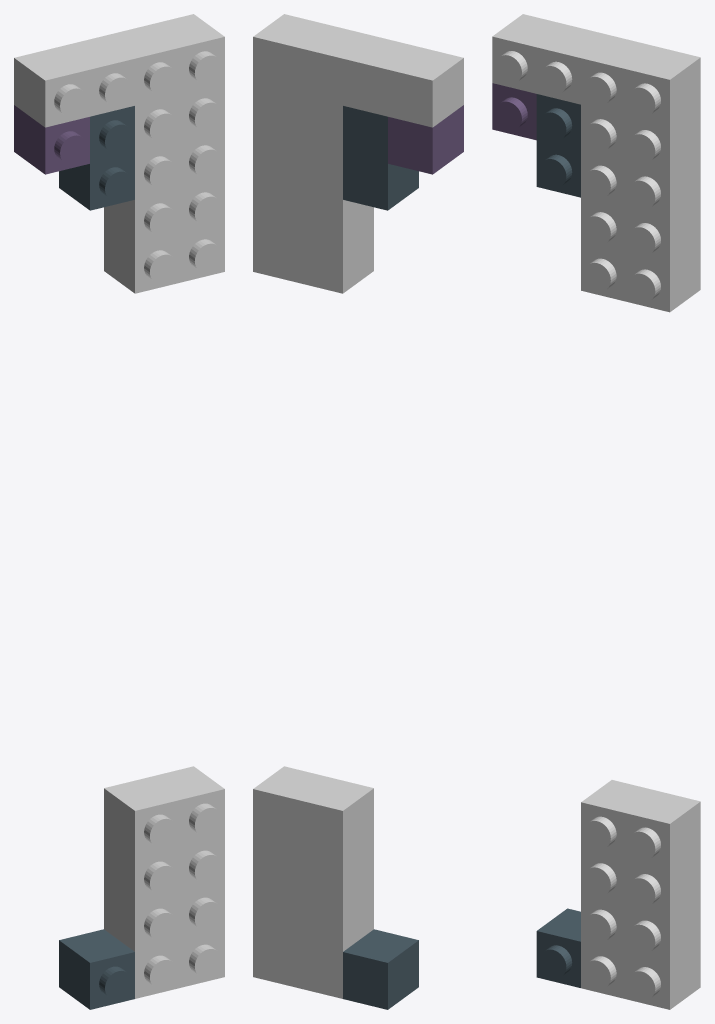
File: current.glb
3 renders of one model, left to right at view 1: azimuth 30°, elevation 25°; view 2: azimuth 150°, elevation 25°; view 3: azimuth 330°, elevation 25°, orthographic.
Parts seen in each view (by area): view 1: world; view 2: world; view 3: world.
Part boxes in pixels (x1,y1,x2,y2): world: [14, 14, 224, 1009]; world: [253, 14, 463, 1009]; world: [492, 14, 700, 1009].
Size of the model in its own units: 32 by 160 by 11.4.
